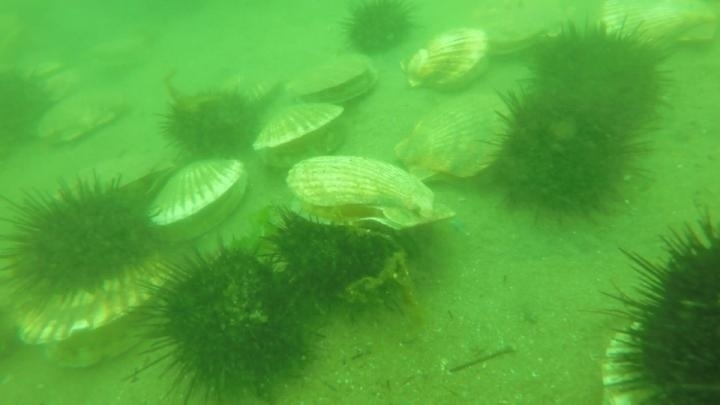echinus: (137, 234, 322, 404), (596, 207, 720, 405), (481, 84, 651, 226), (1, 169, 166, 307), (526, 16, 674, 136), (258, 207, 412, 316), (158, 84, 262, 163), (1, 63, 59, 158), (339, 1, 419, 59)
scallop: (3, 266, 160, 370), (281, 151, 449, 235), (390, 89, 520, 188), (140, 155, 253, 246), (248, 99, 352, 172), (401, 23, 493, 97), (597, 1, 718, 55), (68, 150, 178, 205), (32, 88, 131, 149), (283, 52, 381, 109), (478, 9, 573, 61), (212, 63, 288, 111)
